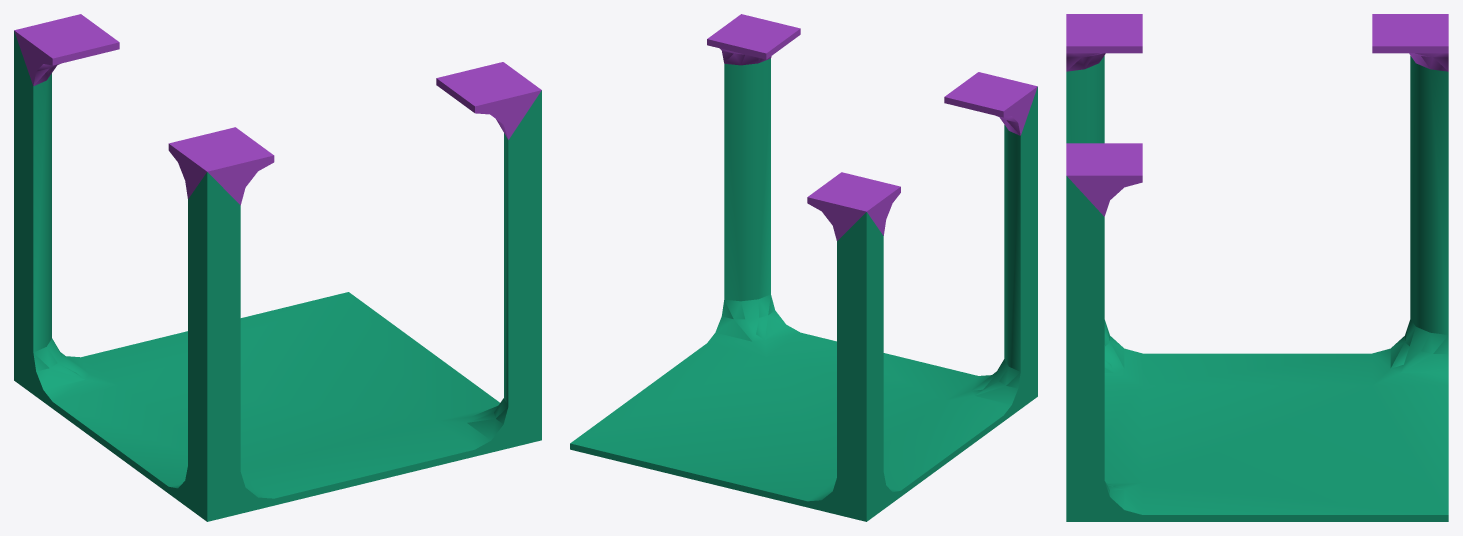
Rendered from Tileset_87.fbx.
The picture shows the model from 3 angles, left to right: view 1: azimuth 30°, elevation 25°; view 2: azimuth 150°, elevation 25°; view 3: azimuth 270°, elevation 25°; orthographic projection. The views are drawn at different scales.
Parts seen in each view (by area): view 1: Tileset_87; view 2: Tileset_87; view 3: Tileset_87.
Part boxes in pixels (bbox=[...]): Tileset_87: bbox=[14, 14, 541, 521]; Tileset_87: bbox=[570, 14, 1037, 521]; Tileset_87: bbox=[1066, 14, 1448, 521].
Size of the model in its own units: 100 by 100 by 100.
